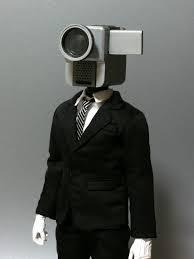no more kid: (59, 19, 146, 87)
